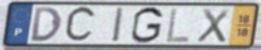C: (62, 4, 99, 45)
D: (30, 6, 64, 43)
G: (129, 6, 165, 45)
I: (111, 6, 126, 44)
L: (165, 6, 192, 44)
X: (195, 7, 231, 44)
